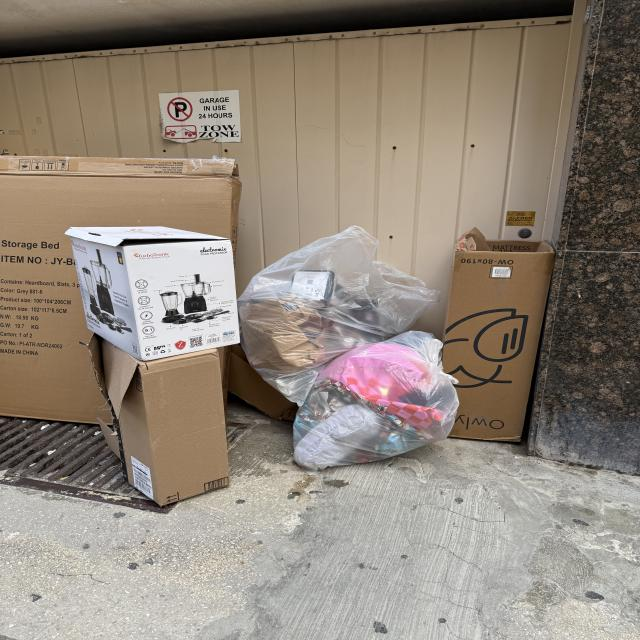Recyclable Material -Grey Bags-: (237, 225, 460, 476)
